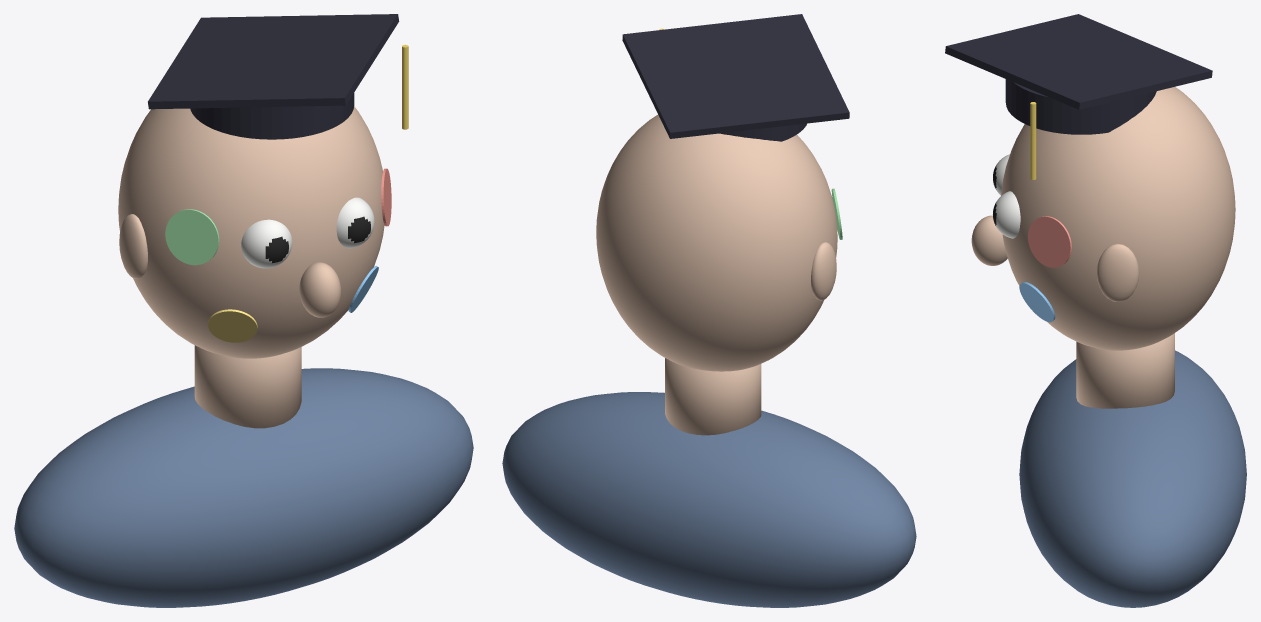
The picture shows the model from 3 angles, left to right: view 1: azimuth 30°, elevation 25°; view 2: azimuth 150°, elevation 25°; view 3: azimuth 270°, elevation 25°; orthographic projection. The views are drawn at different scales.
Visible parts, largest first — view 1: shoulders, head, grad-cap-board, neck, grad-cap-base, sticker-3, eye_R, nose, eye_L, ear_R, sticker-4; view 2: shoulders, head, grad-cap-board, neck, ear_R, grad-cap-base; view 3: shoulders, head, grad-cap-board, neck, grad-cap-base, ear_L, sticker-1, nose, eye_L, sticker-2, grad-cap-tassel.
Part boxes in pixels (bbox=[...]): shoulders: bbox=[14, 368, 473, 607]; head: bbox=[118, 106, 384, 358]; grad-cap-board: bbox=[148, 14, 399, 109]; neck: bbox=[194, 345, 301, 428]; grad-cap-base: bbox=[190, 57, 354, 139]; sticker-3: bbox=[165, 209, 219, 265]; eye_R: bbox=[241, 219, 292, 268]; nose: bbox=[299, 262, 340, 317]; eye_L: bbox=[336, 197, 374, 248]; ear_R: bbox=[119, 214, 147, 278]; sticker-4: bbox=[208, 309, 257, 342]; shoulders: bbox=[502, 392, 916, 607]; head: bbox=[596, 114, 837, 371]; grad-cap-board: bbox=[622, 14, 849, 138]; neck: bbox=[665, 358, 761, 435]; ear_R: bbox=[811, 242, 836, 300]; grad-cap-base: bbox=[719, 113, 806, 141]; shoulders: bbox=[1019, 350, 1246, 607]; head: bbox=[1001, 87, 1235, 350]; grad-cap-board: bbox=[945, 14, 1212, 109]; neck: bbox=[1076, 333, 1174, 408]; grad-cap-base: bbox=[1005, 45, 1156, 134]; ear_L: bbox=[1096, 244, 1139, 301]; sticker-1: bbox=[1028, 216, 1071, 267]; nose: bbox=[971, 215, 1007, 265]; eye_L: bbox=[993, 191, 1020, 238]; sticker-2: bbox=[1019, 282, 1055, 322]; grad-cap-tassel: bbox=[1030, 102, 1036, 179].
Bounding box in the file's own units: 1.24 × 1.5 × 0.796.
